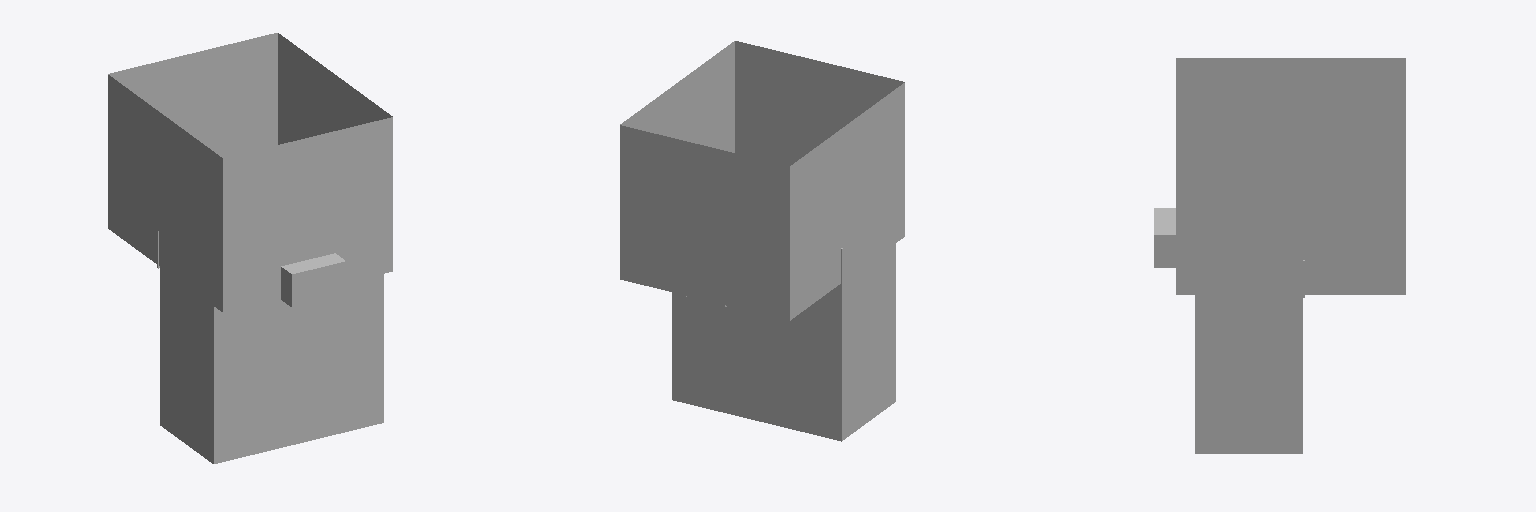
Rendered from interior2.obj.
The picture shows the model from 3 angles: view 1: azimuth 30°, elevation 25°; view 2: azimuth 150°, elevation 25°; view 3: azimuth 270°, elevation 25°; orthographic projection.
Visible parts, largest first — view 1: Walls1, Ground; view 2: Walls1, Ground; view 3: Walls1, Ground.
Part boxes in pixels (left/top/right/bottom): Walls1: left=108, top=33, right=392, bottom=312; Ground: left=160, top=267, right=383, bottom=463; Walls1: left=620, top=41, right=904, bottom=320; Ground: left=672, top=244, right=895, bottom=441; Walls1: left=1154, top=58, right=1405, bottom=294; Ground: left=1195, top=295, right=1302, bottom=453.
Size of the model in its own units: 34.98 by 60.53 by 44.33.